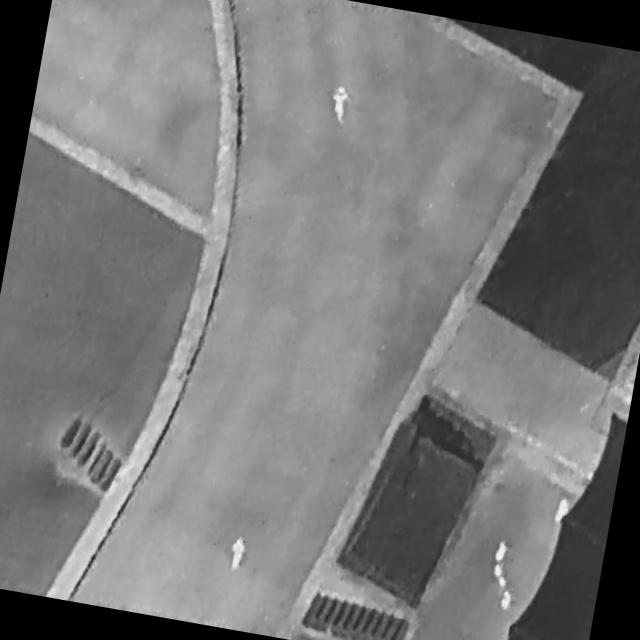person: (327, 81, 357, 128), (226, 533, 250, 574)
